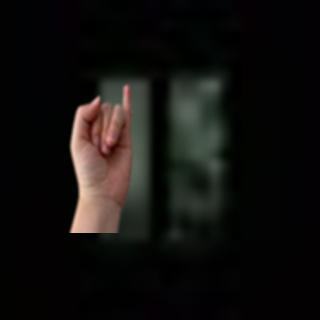Fine: (60, 83, 142, 231)
